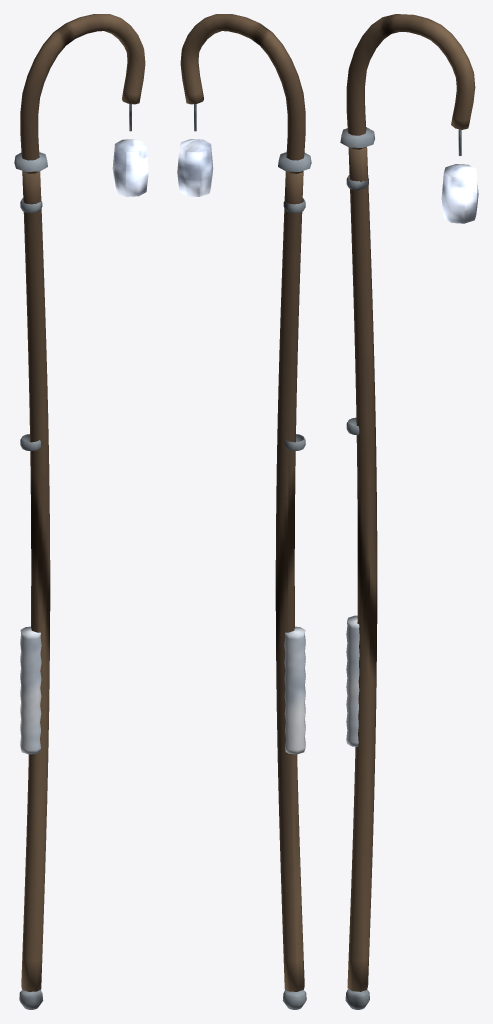
File: MoonherdCrook.fbx
The picture shows the model from 3 angles, left to right: view 1: azimuth 30°, elevation 25°; view 2: azimuth 150°, elevation 25°; view 3: azimuth 330°, elevation 25°; orthographic projection. The views are drawn at different scales.
Visible parts, largest first — view 1: MoonherdCrook; view 2: MoonherdCrook; view 3: MoonherdCrook.
Boxes of the visible parts, <box> form: MoonherdCrook: <box>14,14,148,1009</box>; MoonherdCrook: <box>177,14,311,1009</box>; MoonherdCrook: <box>340,14,478,1009</box>.
Size of the model in its own units: 0.276 by 1.97 by 0.068.
